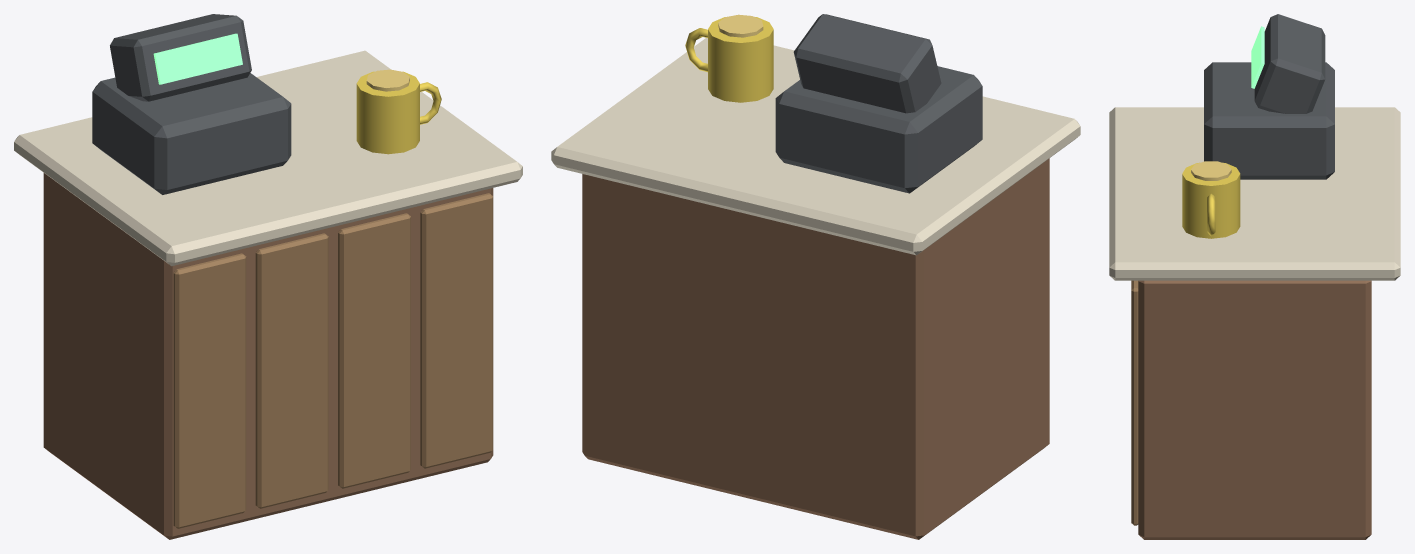
File: an_till.glb
3 renders of one model, left to right at view 1: azimuth 30°, elevation 25°; view 2: azimuth 150°, elevation 25°; view 3: azimuth 270°, elevation 25°, orthographic. The views are drawn at different scales.
Parts seen in each view (by area): view 1: an_till; view 2: an_till; view 3: an_till.
Part boxes in pixels (<box>): an_till: <box>14,14,522,539</box>; an_till: <box>551,14,1080,539</box>; an_till: <box>1109,14,1400,539</box>.
Bounding box in the file's own units: 1.3 × 1.52 × 1.
